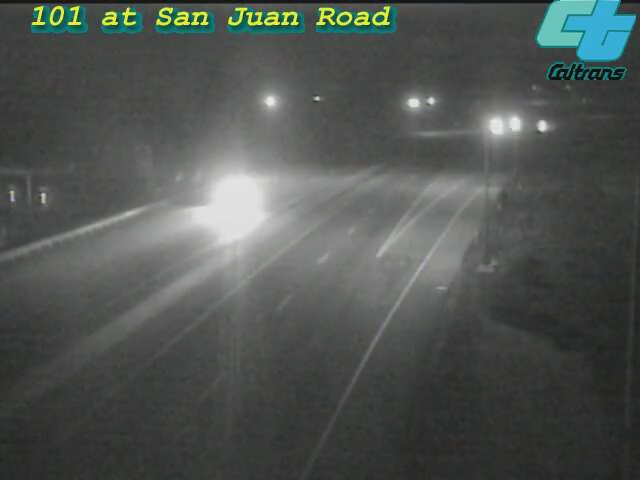vehicle: (187, 158, 267, 238), (517, 103, 567, 153), (470, 102, 520, 152), (492, 99, 542, 149)
